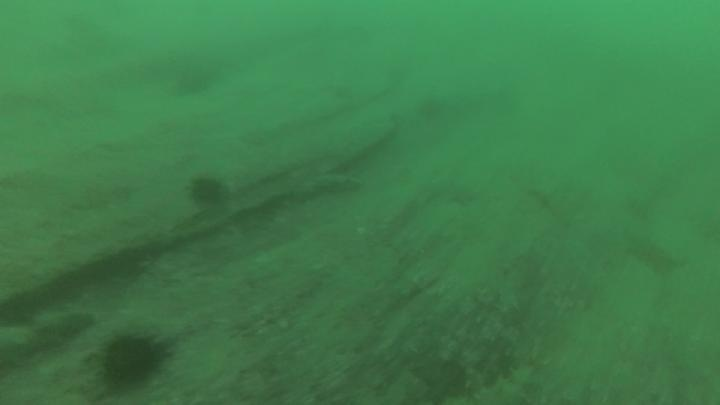echinus: (96, 328, 169, 392), (170, 58, 220, 100), (186, 172, 228, 209)
holothurian: (0, 304, 96, 371), (469, 360, 542, 405)
